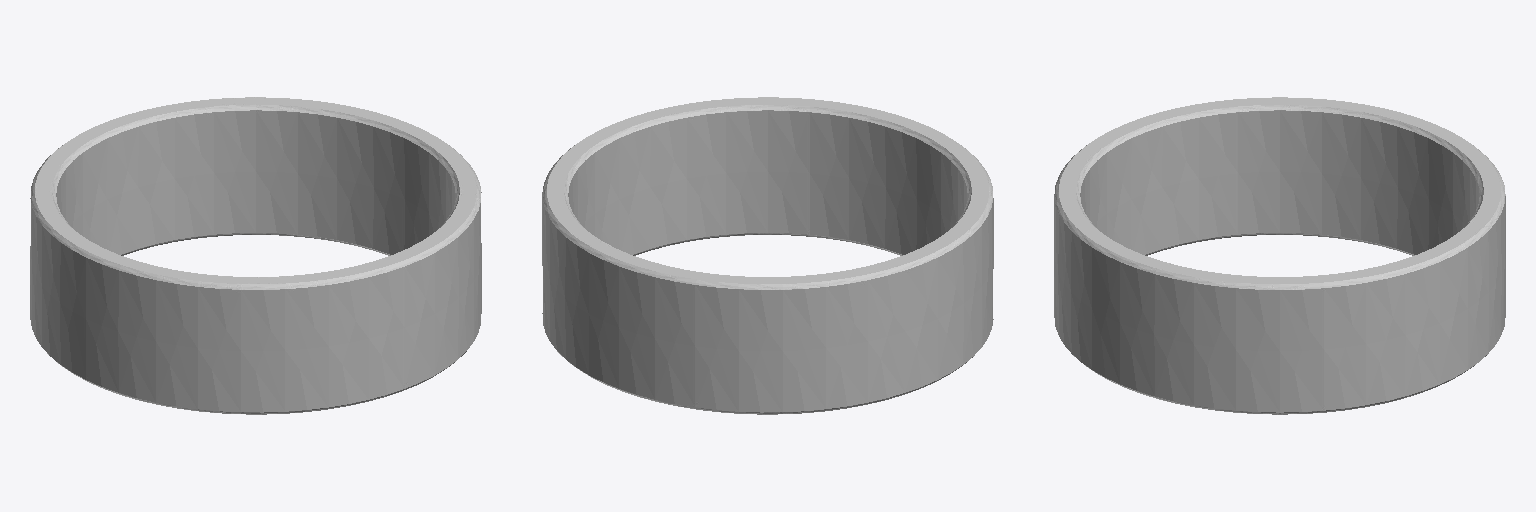
3 views of the same model, side by side, from view 1: azimuth 30°, elevation 25°; view 2: azimuth 150°, elevation 25°; view 3: azimuth 270°, elevation 25° (orthographic).
Parts seen in each view (by area): view 1: Distance_Tube_Material.001; view 2: Distance_Tube_Material.001; view 3: Distance_Tube_Material.001.
Part boxes in pixels (x1,y1,x2,y2): Distance_Tube_Material.001: (30, 97, 481, 414); Distance_Tube_Material.001: (542, 97, 993, 414); Distance_Tube_Material.001: (1054, 97, 1505, 414).
Bounding box in the file's own units: 0.3144 × 0.1 × 0.3144.
1 materials, 1 textured.